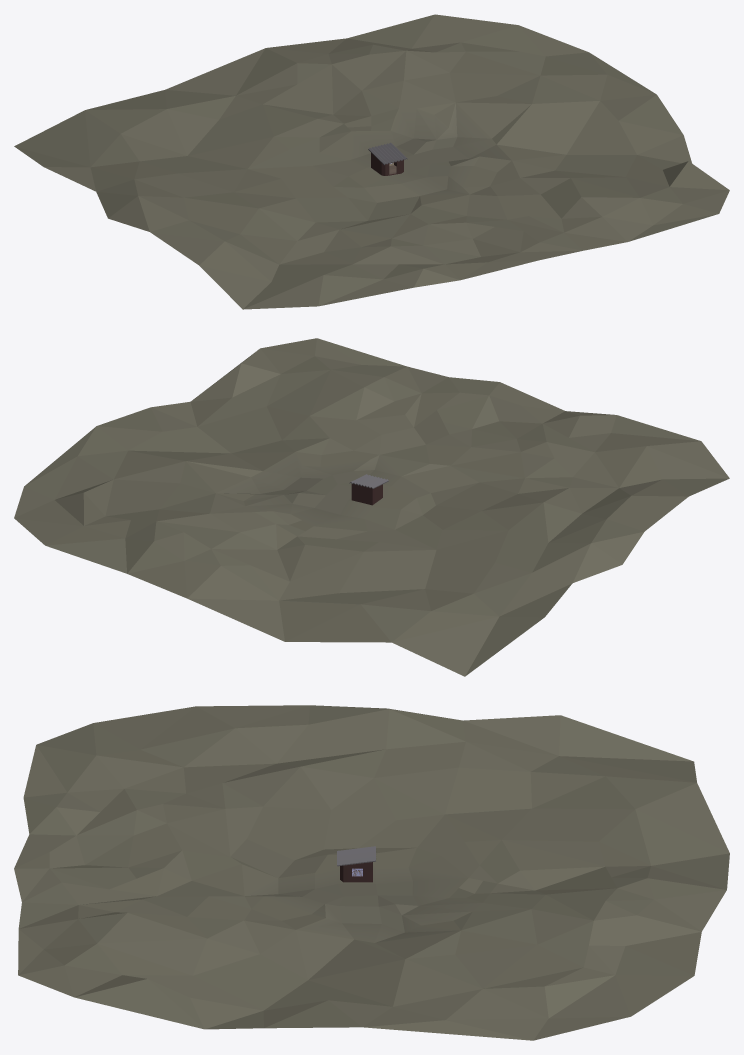
Rendered from Hut.fbx.
The picture shows the model from 3 angles, top to bottom: view 1: azimuth 30°, elevation 25°; view 2: azimuth 150°, elevation 25°; view 3: azimuth 270°, elevation 25°; orthographic projection. The views are drawn at different scales.
Visible parts, largest first — view 1: Ground, Hut; view 2: Ground, Hut; view 3: Ground, Hut.
Part boxes in pixels (bbox=[...]): Ground: bbox=[14, 14, 729, 309]; Hut: bbox=[368, 142, 407, 175]; Ground: bbox=[14, 338, 729, 676]; Hut: bbox=[349, 474, 388, 505]; Ground: bbox=[14, 705, 729, 1040]; Hut: bbox=[337, 846, 375, 882].
Bounding box in the file's own units: 33936 × 2553 × 32030.
